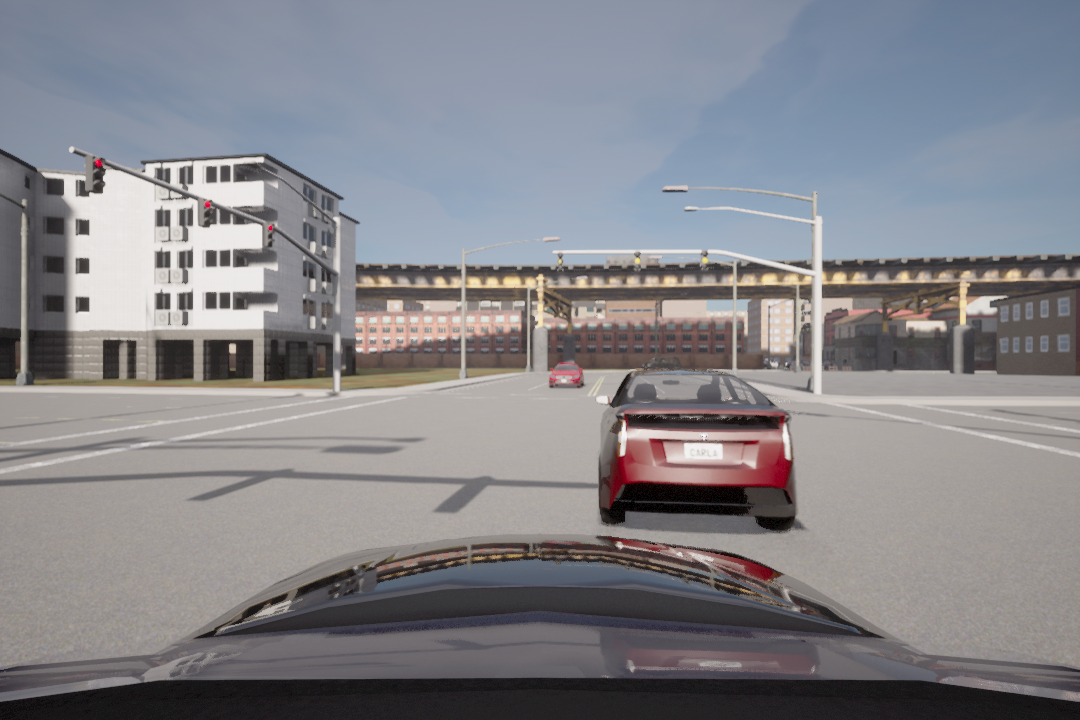TrafficLight: (83, 154, 111, 197), (196, 194, 215, 231), (261, 218, 275, 248), (698, 251, 713, 274), (634, 250, 646, 274), (557, 251, 565, 271)
